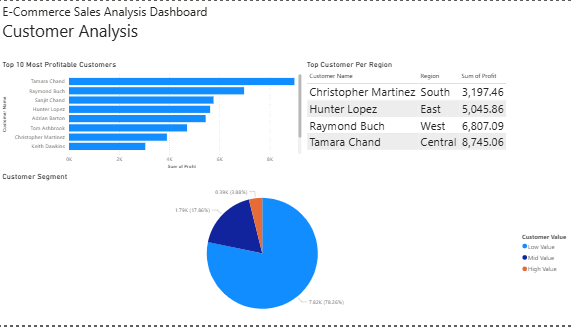

This screenshot's page, from the dashboard's own definition file:
{"tool":"powerbi","page":{"name":"Page 2","canvas":[1280,720],"ordinal":1},"visuals":[{"type":"clusteredBarChart","title":"Top 10 Most Profitable Customers","fields":{"Category":["Sample - Superstore.Customer Name"],"Y":["Sum(Sample - Superstore.Profit)"]},"box":[0,130,675,247.5],"z":0},{"type":"pieChart","title":"Customer Segment","fields":{"Category":["Sample - Superstore.Customer Value"],"Y":["CountNonNull(Sample - Superstore.Customer Name)"]},"box":[0,378.3,1280,341.7],"z":1000},{"type":"tableEx","title":"Top Customer Per Region ","fields":{"Values":["06_regional_customer_ranking.Column1","06_regional_customer_ranking.Column2","Sum(06_regional_customer_ranking.Column3)"]},"box":[675,130,587.5,247.5],"z":2000},{"type":"textbox","box":[0,0,498,112],"z":3000}]}

Visuals, with their boxes in screenshot pixels (x1, y1, x2, y2), scaled from the page's 1280x720 canvas onto the 574x327 screenshot:
"Top 10 Most Profitable Customers" clusteredBarChart: box=[0, 59, 303, 171]
"Customer Segment" pieChart: box=[0, 172, 573, 326]
"Top Customer Per Region " tableEx: box=[303, 59, 566, 171]
textbox: box=[0, 0, 223, 51]
